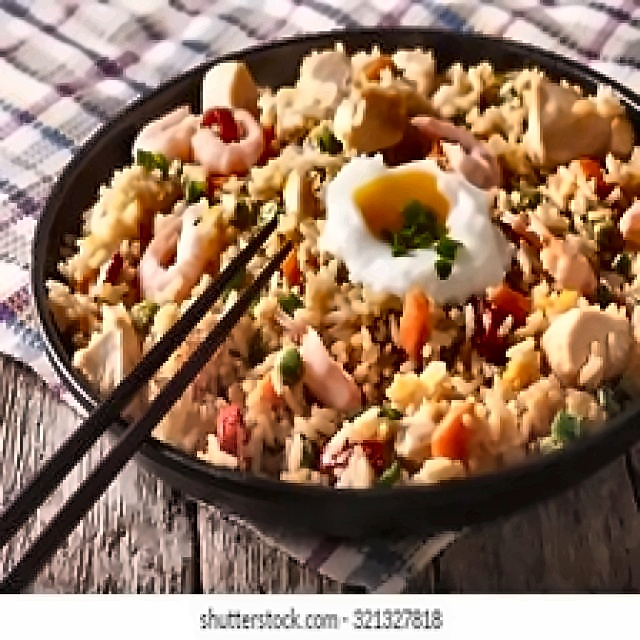egg: (317, 154, 509, 308)
rice: (122, 34, 634, 486)
shrimp: (138, 203, 212, 300), (412, 114, 506, 188), (297, 326, 357, 408), (188, 106, 262, 172), (192, 109, 262, 174), (132, 106, 192, 160), (620, 198, 640, 252)
